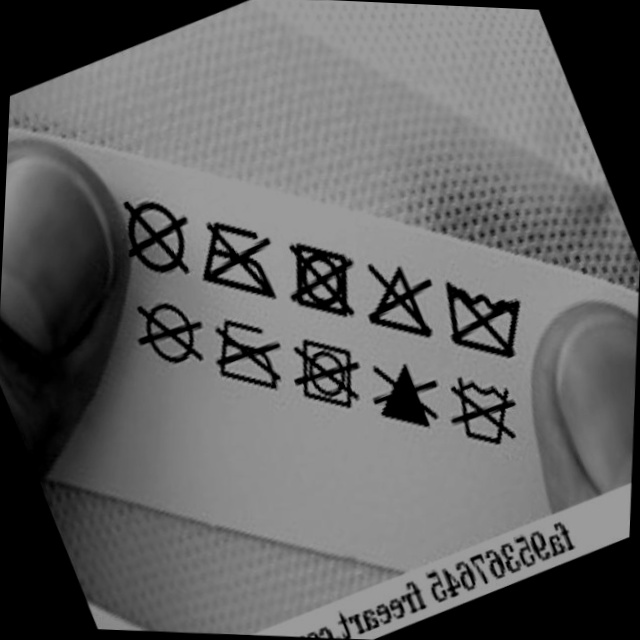DN_bleach: (361, 257, 437, 344), (368, 356, 440, 430)
DN_dry_clean: (119, 185, 195, 283), (133, 293, 208, 376)
DN_iron: (195, 212, 282, 308), (208, 314, 285, 396)
DN_tumble_dry: (283, 234, 356, 319), (288, 333, 362, 415)
DN_wash: (439, 273, 524, 357), (445, 372, 518, 447)
